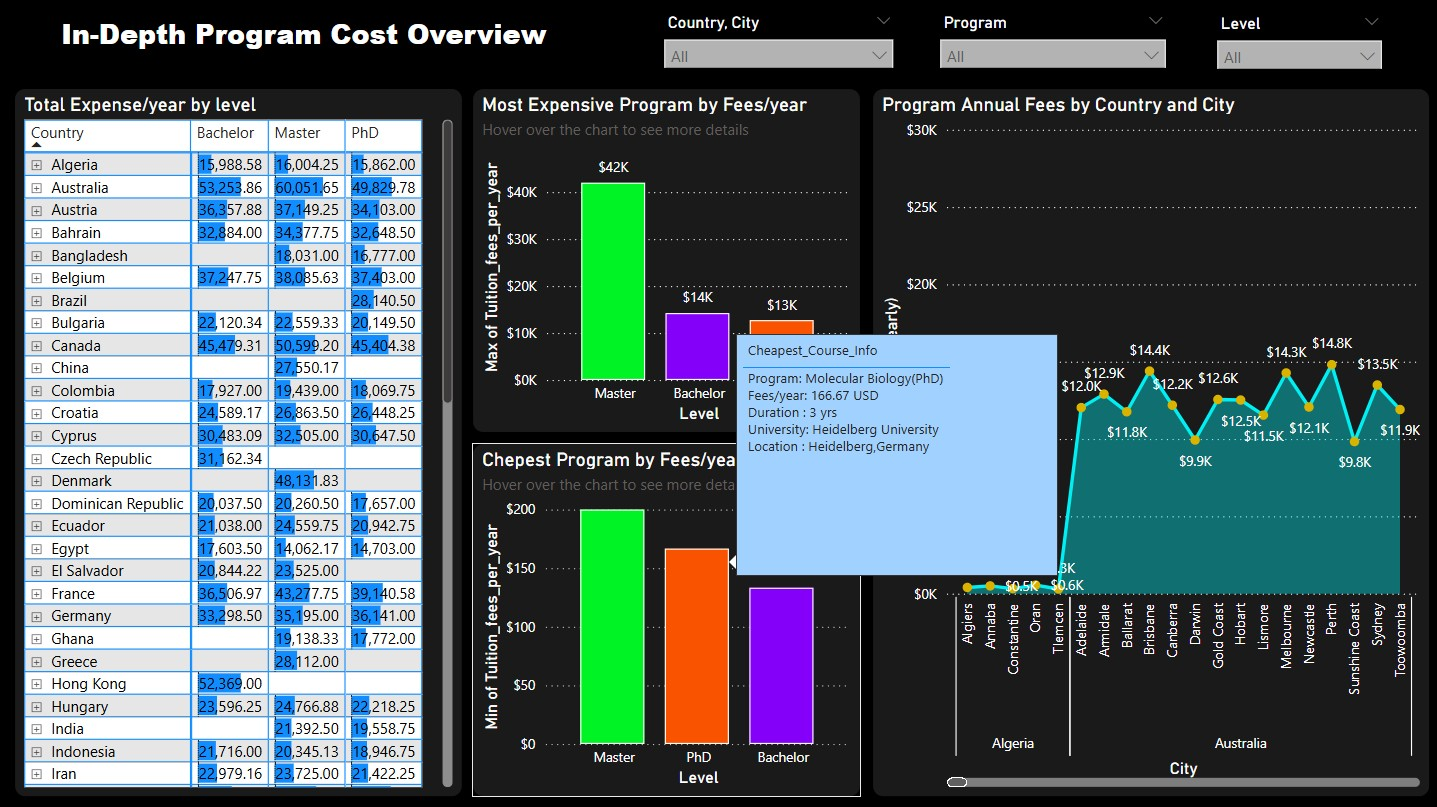

What the dashboard file says about the page in this screenshot:
{"tool":"powerbi","page":{"name":"Details","canvas":[1280,720],"ordinal":1},"visuals":[{"type":"textbox","box":[6.2,6.2,1262.7,65.6],"z":0},{"type":"slicer","fields":{"Values":["Cleaned_International_edu_cost.Program"]},"box":[824.6,8.9,219.9,53],"z":1000},{"type":"slicer","fields":{"Values":["Cleaned_International_edu_cost.Country","Cleaned_International_edu_cost.City"]},"box":[579.9,8.9,223.4,53],"z":2000},{"type":"slicer","fields":{"Values":["Cleaned_International_edu_cost.Level"]},"box":[1070.2,9.8,165.8,53.2],"z":3000},{"type":"pivotTable","title":"Total Expense/year by level","fields":{"Rows":["Cleaned_International_edu_cost.Country","Cleaned_International_edu_cost.City"],"Columns":["Cleaned_International_edu_cost.Level"],"Values":["Avg(Cleaned_International_edu_cost.Total_Expense_per_year)"]},"box":[13.3,79.8,398.1,628.7],"z":4000},{"type":"lineChart","title":"Program Annual Fees by Country and City","fields":{"Category":["Cleaned_International_edu_cost.Country","Cleaned_International_edu_cost.City"],"Y":["Avg(Cleaned_International_edu_cost.Tuition_fees_per_year)"]},"box":[774.1,79.8,494.8,628.7],"z":5000},{"type":"columnChart","title":"Chepest Program by Fees/year","fields":{"Category":["Cleaned_International_edu_cost.Level"],"Y":["Min(Cleaned_International_edu_cost.Tuition_fees_per_year)"]},"box":[419.4,394.6,344.9,313.9],"z":6000},{"type":"columnChart","title":"Most Expensive Program by Fees/year","fields":{"Category":["Cleaned_International_edu_cost.Level"],"Y":["Max(Cleaned_International_edu_cost.Tuition_fees_per_year)"]},"box":[419.4,79.8,344.9,305.9],"z":7000}]}

Visuals, with their boxes in screenshot pixels (x1, y1, x2, y2), scaled from the page's 1280x720 canvas onto the 1437x807 screenshot:
textbox: bbox=(7, 7, 1425, 80)
slicer - Cleaned_International_edu_cost.Program: bbox=(926, 10, 1173, 69)
slicer - Cleaned_International_edu_cost.Country x Cleaned_International_edu_cost.City: bbox=(651, 10, 902, 69)
slicer - Cleaned_International_edu_cost.Level: bbox=(1201, 11, 1388, 71)
"Total Expense/year by level" pivotTable: bbox=(15, 89, 462, 794)
"Program Annual Fees by Country and City" lineChart: bbox=(869, 89, 1425, 794)
"Chepest Program by Fees/year" columnChart: bbox=(471, 442, 858, 794)
"Most Expensive Program by Fees/year" columnChart: bbox=(471, 89, 858, 432)
